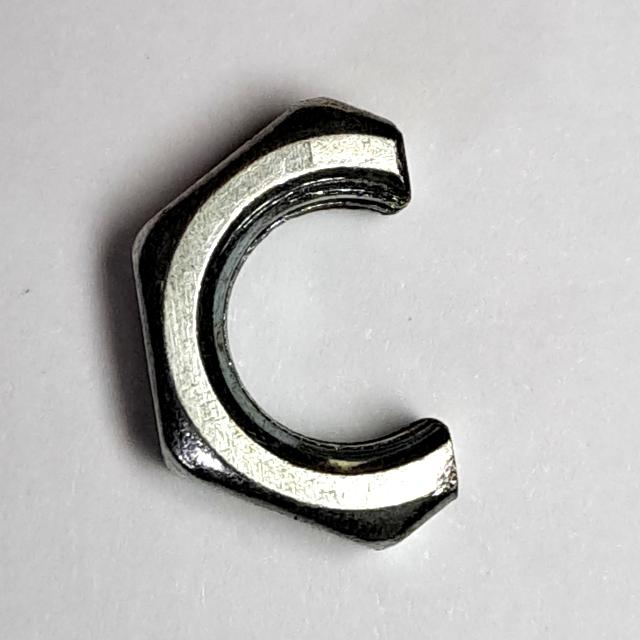Fracture: (115, 79, 489, 584)
